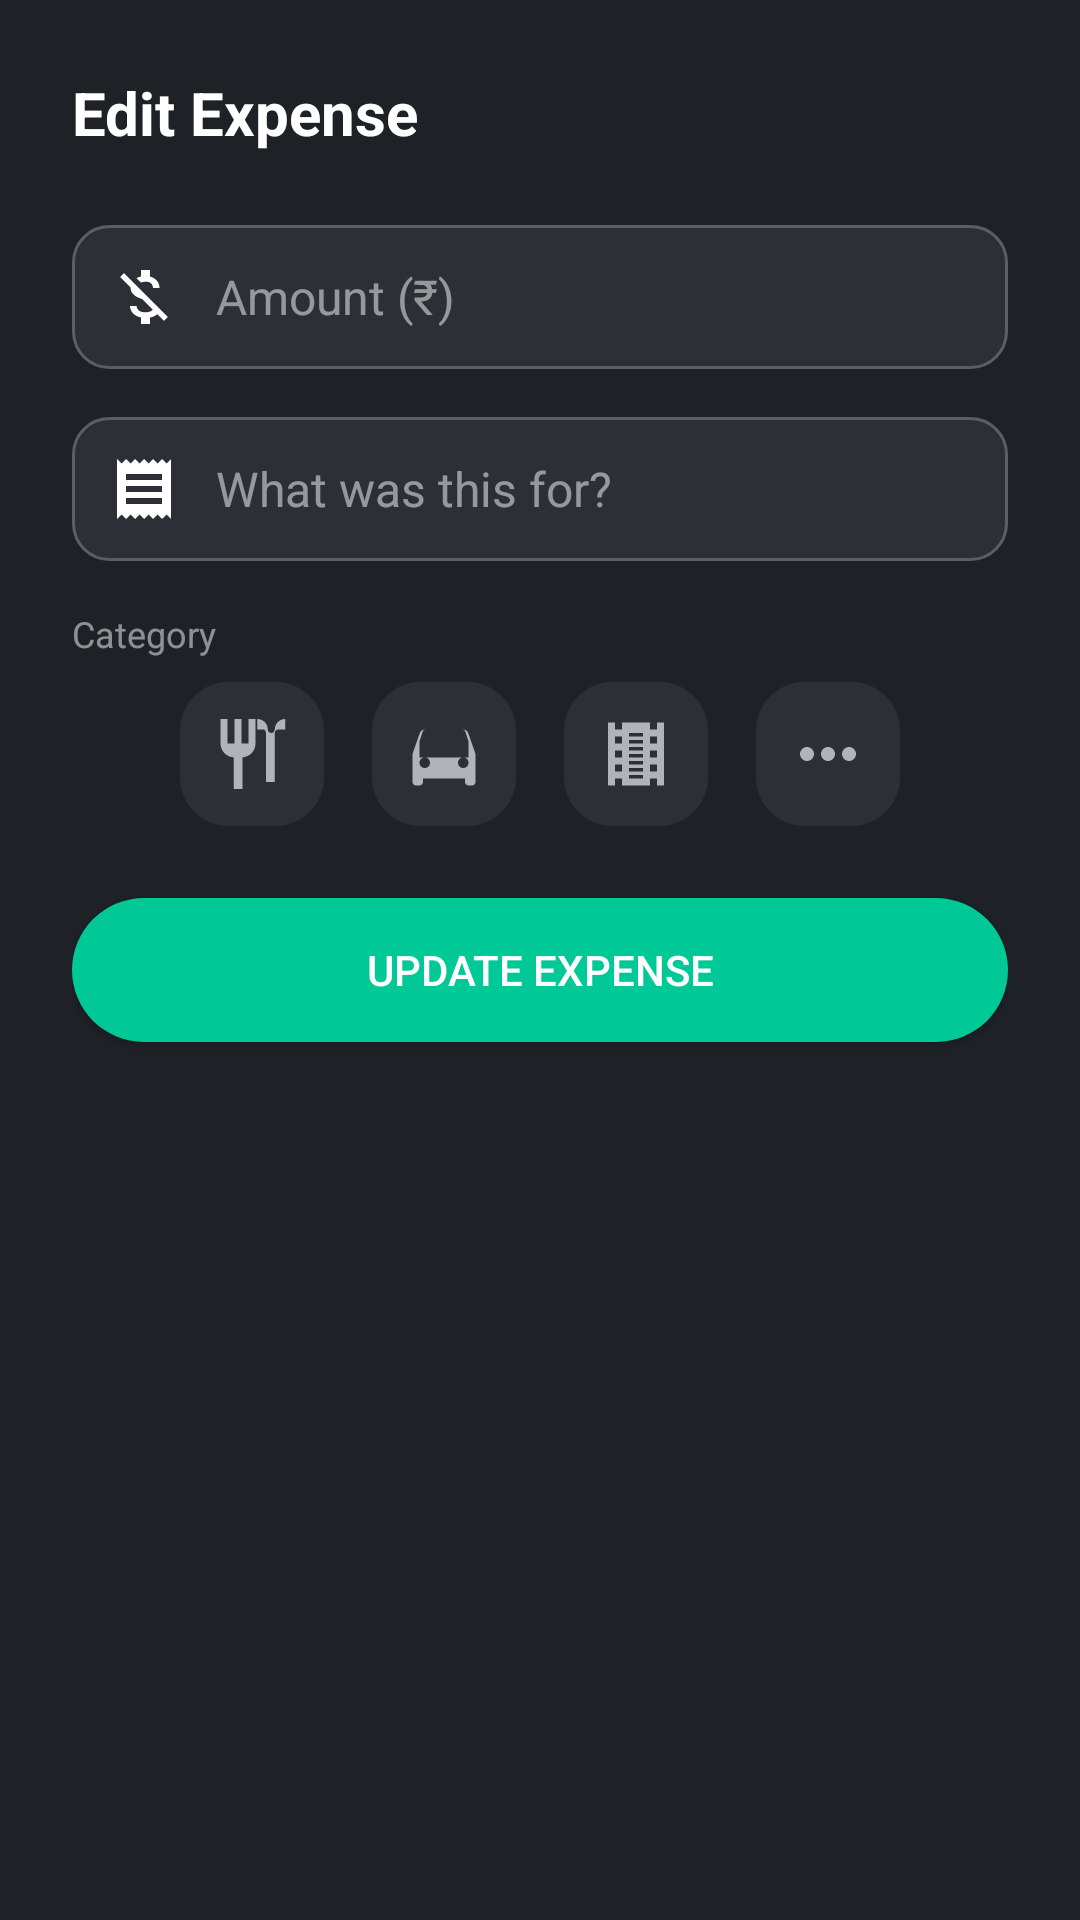

Point at icon controls on the screen. Image size 1080px x 1920px, points as (x,y).
entertainment: (636,754)
food: (252,754)
other: (828,754)
receipt: (144,489)
transport: (444,754)
